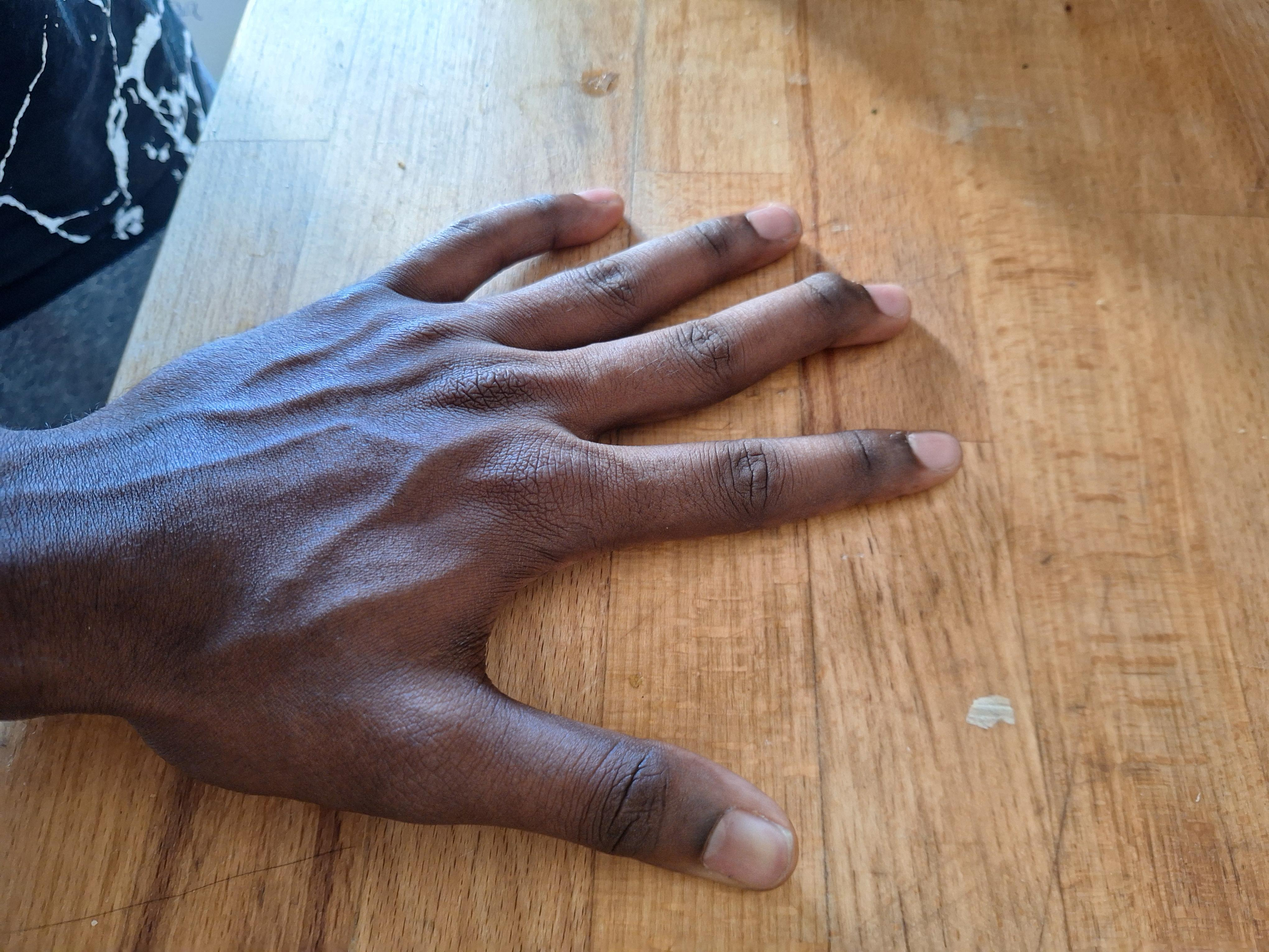Fingernail: (703, 809, 793, 890), (908, 431, 961, 469), (747, 205, 801, 240), (864, 285, 909, 318), (576, 189, 620, 203)
